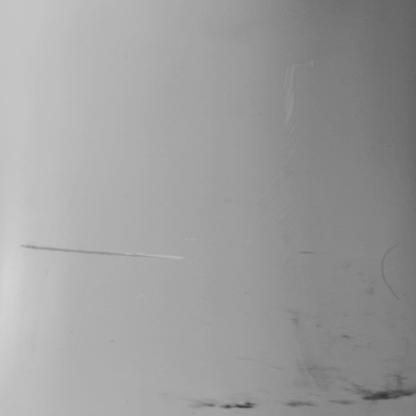sunshang: (20, 239, 186, 261), (381, 238, 405, 307)
